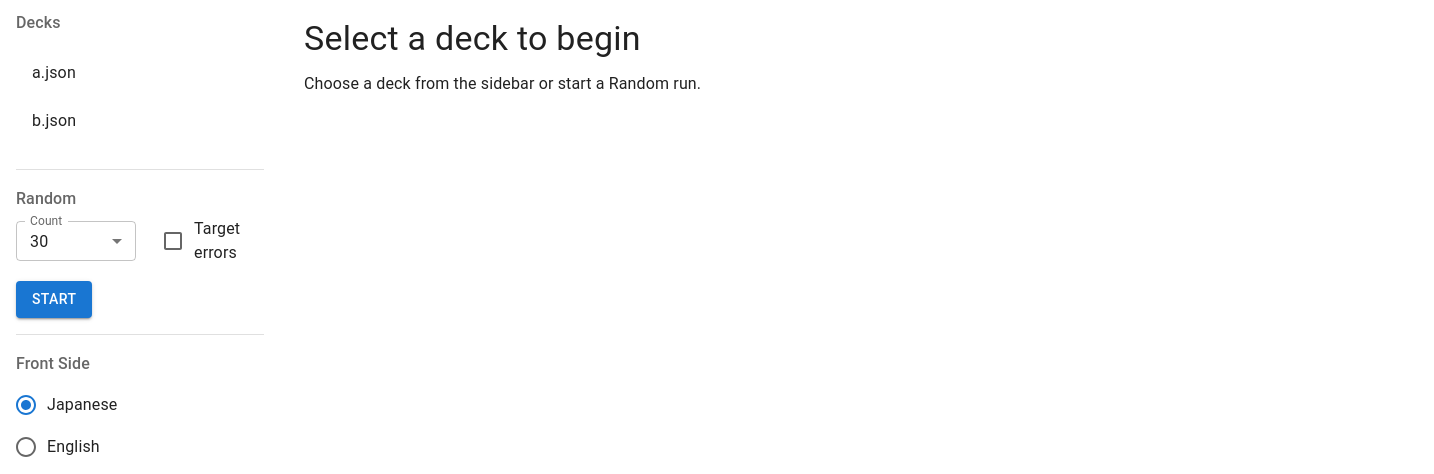
it: Random deck aggregation and dedupe › dedupes across japanese/hiragana/english and respects quantity on start and restart
// Set count to 10 (default is 30)
Select "10" in the dropdown labelled "Count" at (76, 241), box [16,221,136,261]
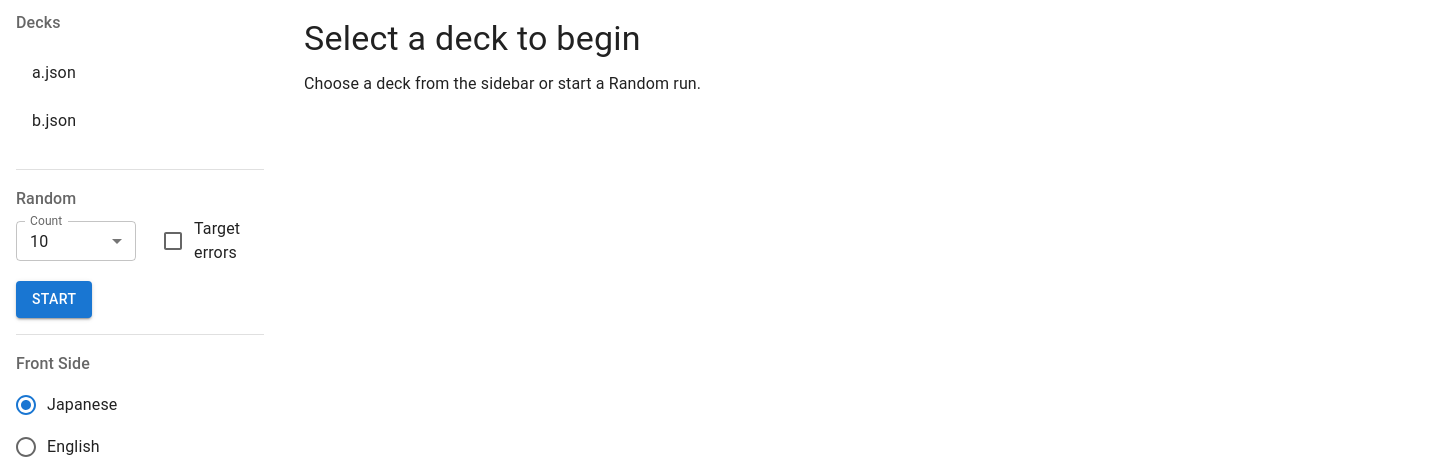
Click the button "Start" at (54, 300), box [16,281,92,318]
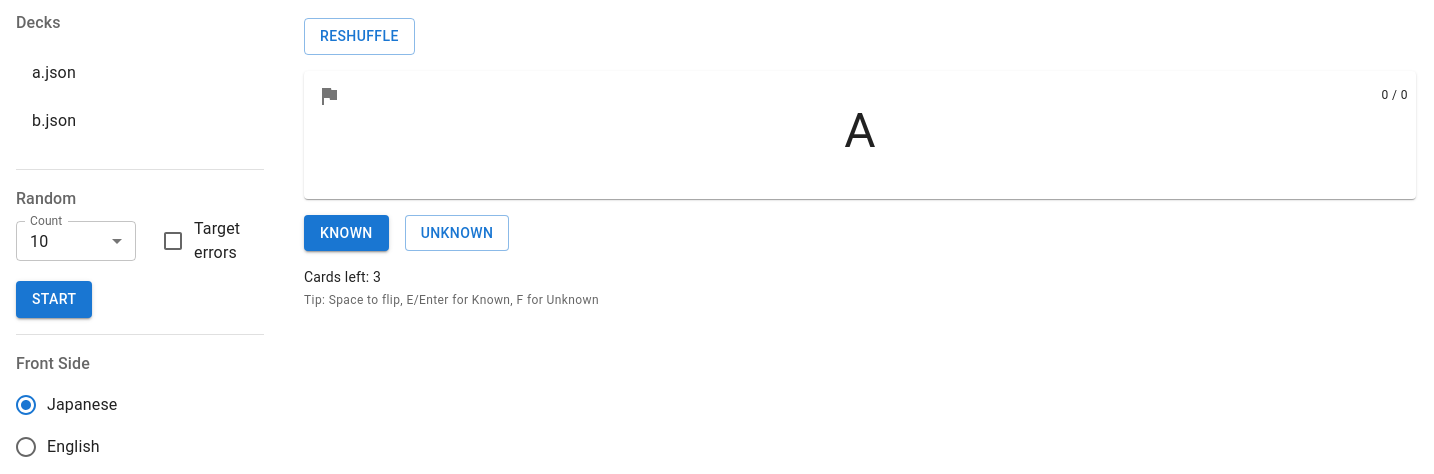
Expected: the text "Cards left: 3" is shown, [304,269,381,285]
// Complete the deck
Click the button "Known" at (346, 233), box [304,214,389,251]
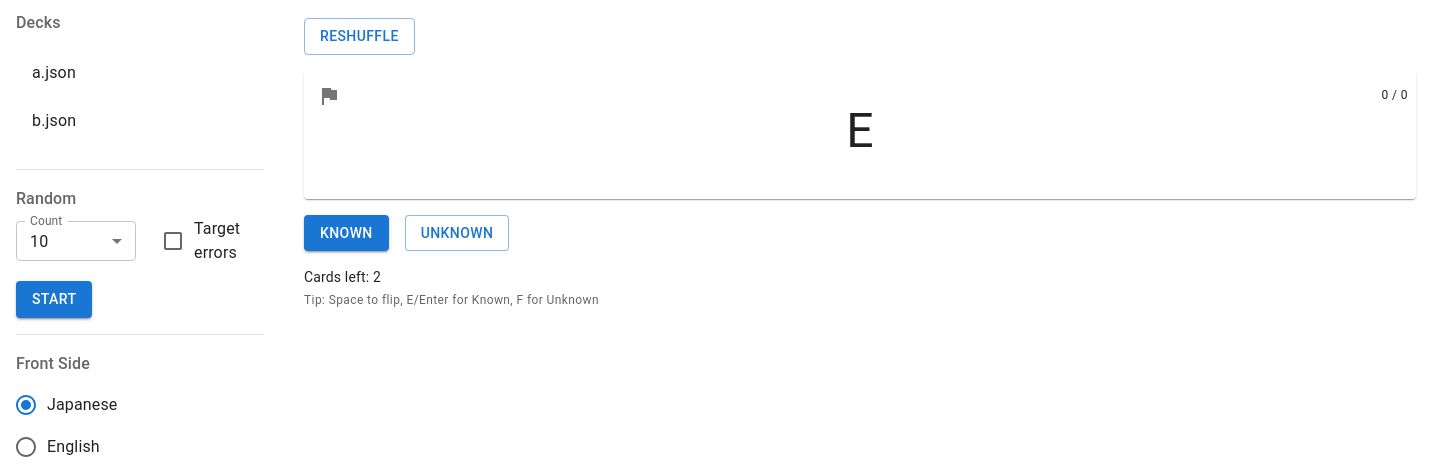
Click the button "Known" at (346, 233), box [304,214,389,251]
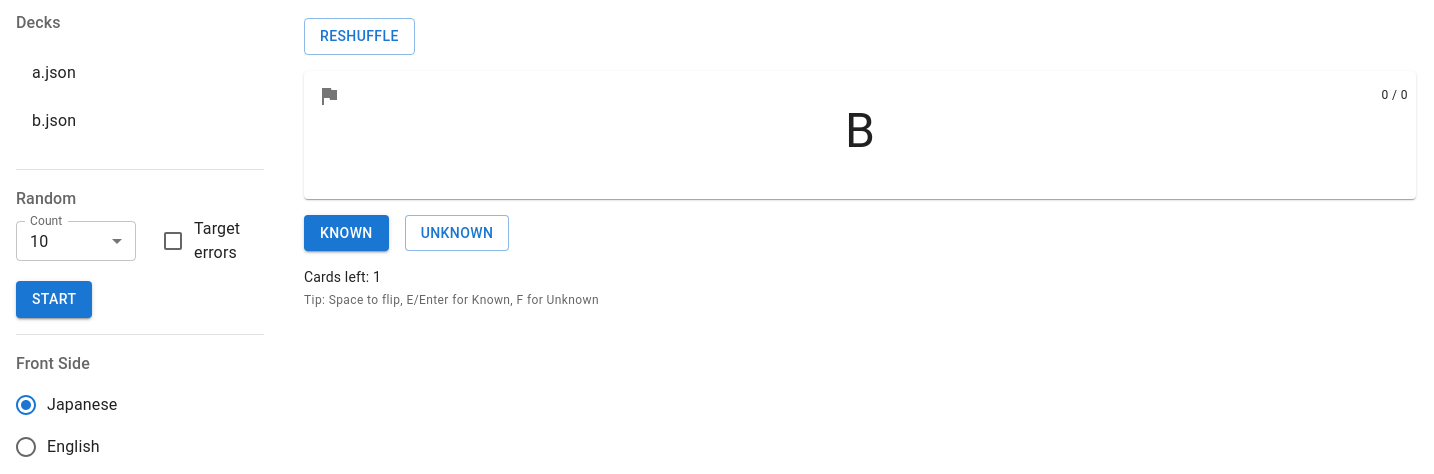
Click the button "Known" at (346, 233), box [304,214,389,251]
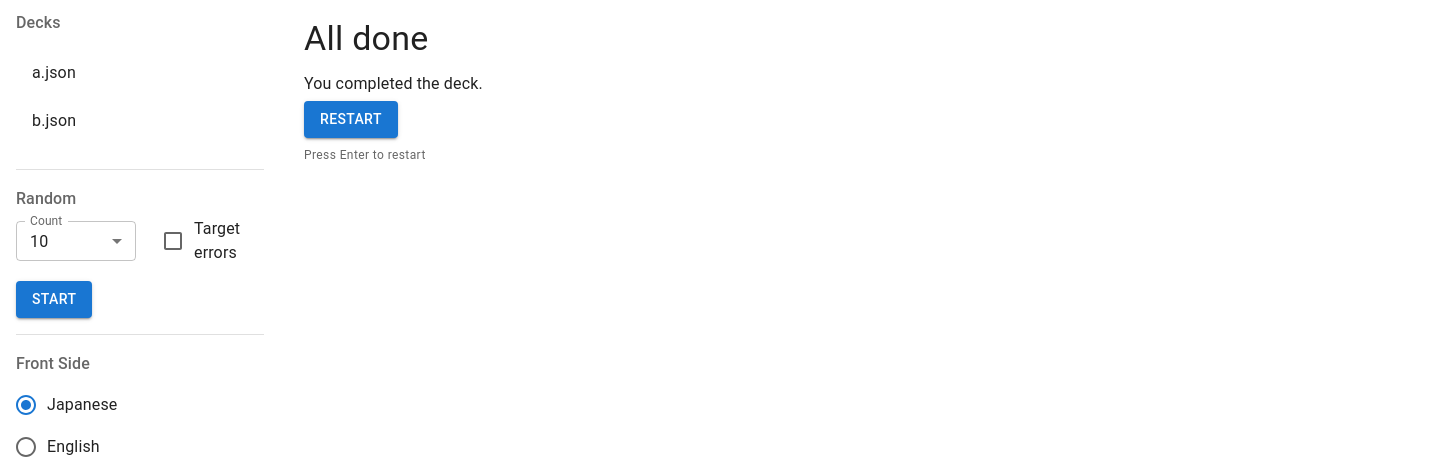
// Restart should re-sample and keep deduped count
Click the button "Restart" at (351, 120), box [304,102,398,138]
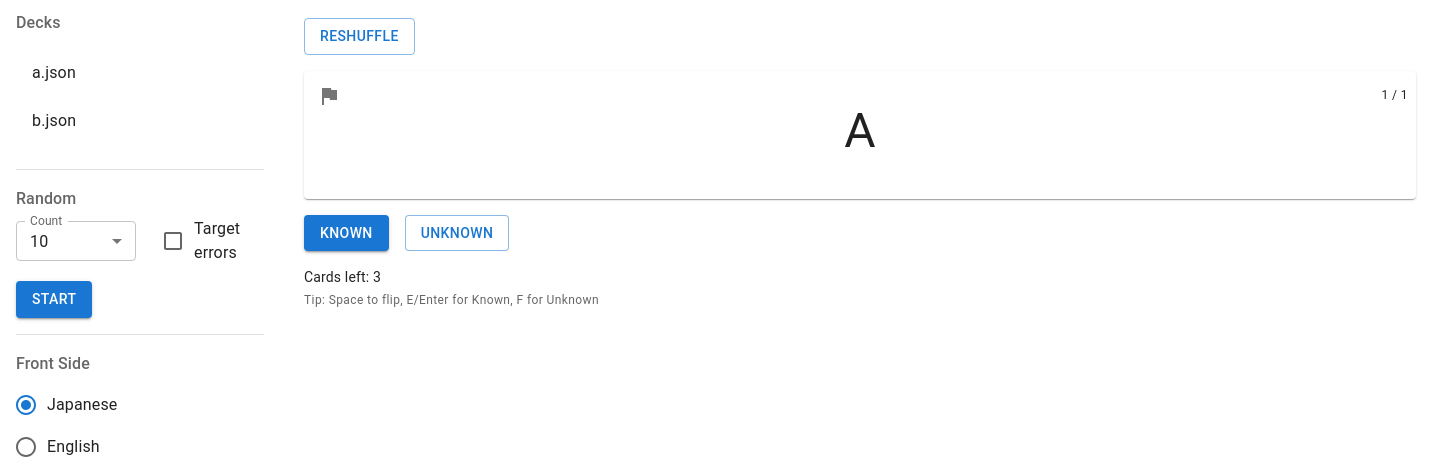
Expected: the text "Cards left: 3" is shown, [304,269,381,285]
